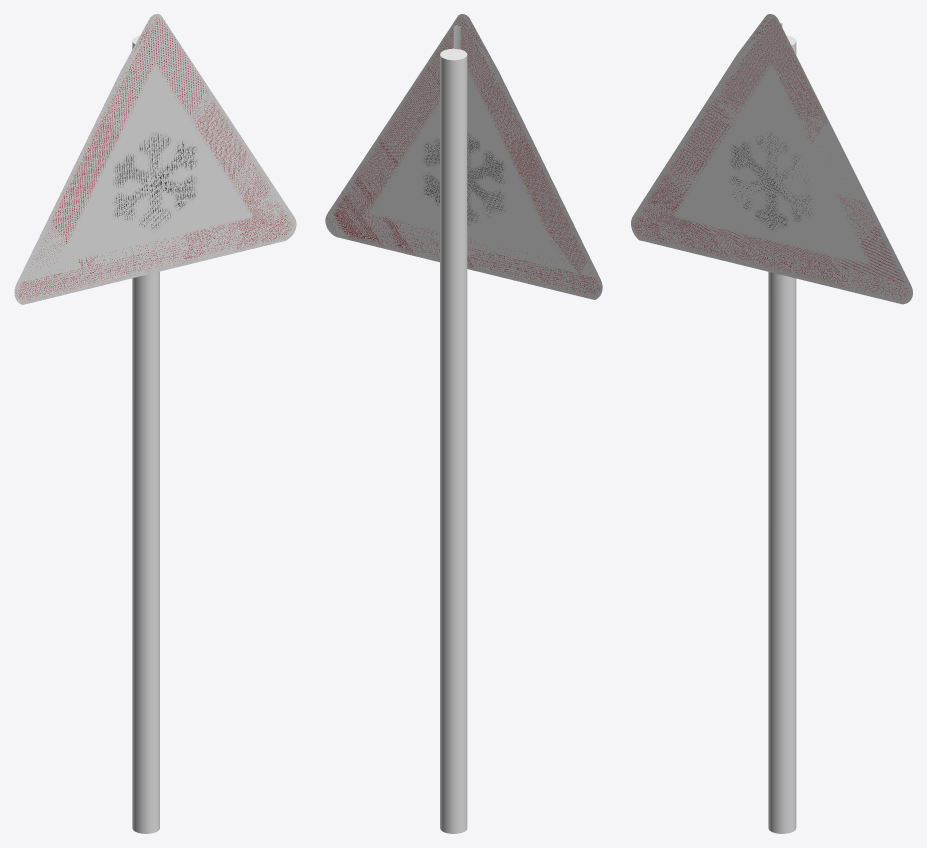
3 renders of one model, left to right at view 1: azimuth 30°, elevation 25°; view 2: azimuth 150°, elevation 25°; view 3: azimuth 330°, elevation 25°, orthographic.
Parts seen in each view (by area): view 1: SketchUp (×2); view 2: SketchUp (×2); view 3: SketchUp (×2).
Part boxes in pixels (box(x1,y1,x2,y2)): SketchUp (×2): box(14, 14, 296, 833); SketchUp (×2): box(325, 14, 602, 833); SketchUp (×2): box(631, 14, 912, 833).
Bounding box in the file's own units: 73.81 × 7.6 × 205.
2 materials, 1 textured.
